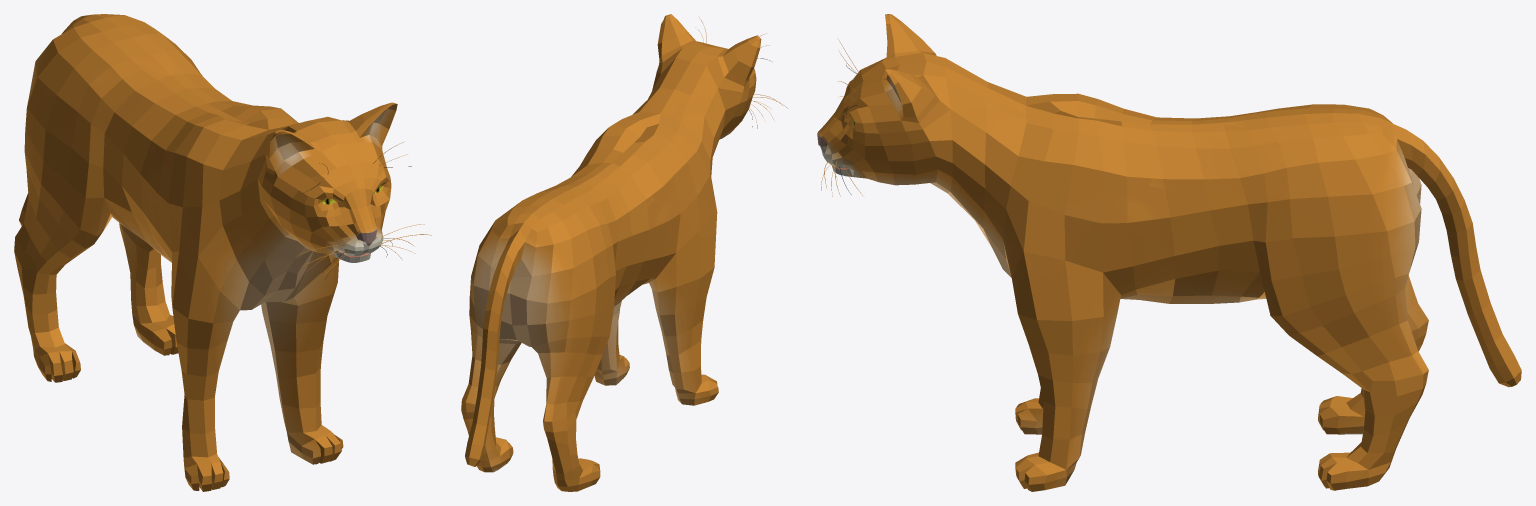
Rendered from basemesh_cat.fbx.
3 renders of one model, left to right at view 1: azimuth 30°, elevation 25°; view 2: azimuth 150°, elevation 25°; view 3: azimuth 270°, elevation 25°, orthographic. The views are drawn at different scales.
Parts seen in each view (by area): view 1: basemesh_cat, wiskers; view 2: basemesh_cat; view 3: basemesh_cat.
Part boxes in pixels (x1,y1,x2,y2): basemesh_cat: [14, 14, 397, 491]; wiskers: [298, 142, 431, 278]; basemesh_cat: [461, 14, 761, 491]; basemesh_cat: [817, 14, 1521, 491].
Bounding box in the file's own units: 44.56 × 114 × 176.
